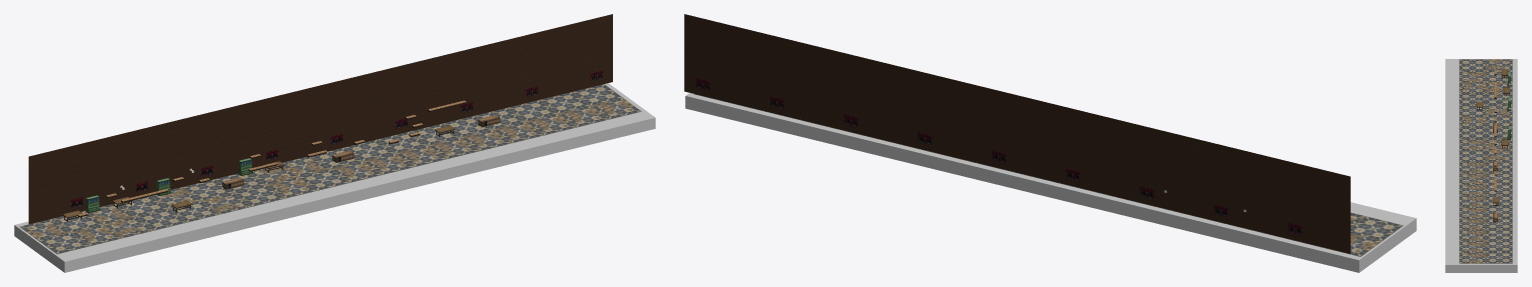
Rendered from Blend_Kitchen_1.fbx.
The picture shows the model from 3 angles, left to right: view 1: azimuth 30°, elevation 25°; view 2: azimuth 150°, elevation 25°; view 3: azimuth 270°, elevation 25°; orthographic projection. The views are drawn at different scales.
Visible parts, largest first — view 1: Cube__5_, Plane.014, Plane.016, Plane.023, Plane, Plane.018, Plane.019, Plane.022, Plane.027, Plane.033, Plane.034, Plane.015 (+61 smaller); view 2: Cube__5_, Plane.006, Plane.013, Plane.014, Plane.021, Plane.022, Plane.028, Plane.029, Plane.030, Plane.031, Plane, Plane.001 (+27 smaller); view 3: Cube__5_, Cube.003, Cube.006, Cube.012, Cube.013, Cube.014, Cube.017, Cube.018, Cube.019, Cube.023, Cube.024, Cube.025 (+30 smaller).
Boxes of the visible parts, x1,y1,x2,y2 form: Cube__5_: (14, 83, 655, 272); Plane.014: (450, 46, 483, 87); Plane.016: (385, 61, 418, 103); Plane.023: (158, 117, 190, 158); Plane: (28, 182, 60, 224); Plane.018: (321, 77, 353, 118); Plane.019: (288, 85, 320, 126); Plane.022: (191, 109, 223, 150); Plane.027: (28, 148, 60, 190); Plane.033: (580, 48, 612, 89); Plane.034: (580, 14, 612, 55); Plane.015: (418, 53, 450, 95); Cube__5_: (685, 93, 1416, 272); Plane.006: (1091, 152, 1128, 199); Plane.013: (832, 89, 869, 136); Plane.014: (832, 50, 869, 97); Plane.021: (1091, 113, 1128, 160); Plane.022: (1128, 122, 1165, 169); Plane.028: (795, 80, 832, 127); Plane.029: (758, 71, 795, 118); Plane.030: (758, 32, 795, 79); Plane.031: (795, 41, 832, 88); Plane: (1313, 206, 1350, 253); Plane.001: (1276, 197, 1313, 244); Cube__5_: (1445, 59, 1517, 272); Cube.003: (1459, 161, 1485, 172); Cube.006: (1459, 150, 1485, 161); Cube.012: (1459, 138, 1485, 149); Cube.013: (1459, 127, 1485, 138); Cube.014: (1459, 116, 1485, 127); Cube.017: (1459, 82, 1485, 93); Cube.018: (1459, 70, 1485, 81); Cube.019: (1459, 59, 1485, 70); Cube.023: (1459, 218, 1485, 229); Cube.024: (1486, 229, 1512, 240); Cube.025: (1459, 229, 1485, 240).
Bounding box in the file's own units: 19359 × 2467 × 2838.
